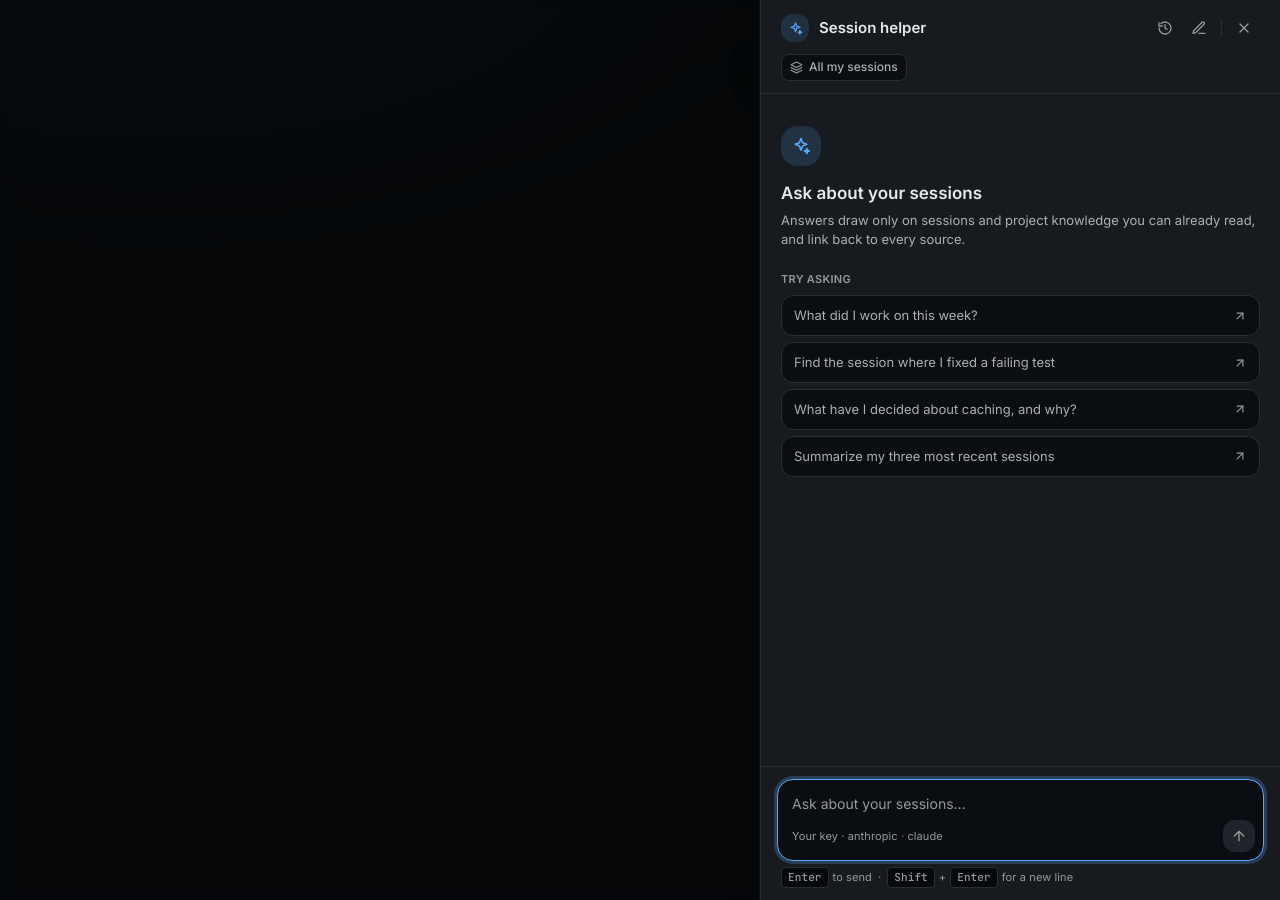
HelperPanel — streaming › streams an answer with tool steps, inline citation chips and a sources row
Type "What failed?" into the text box named "Ask the session helper" at (1020, 800), box [778,780,1263,820]
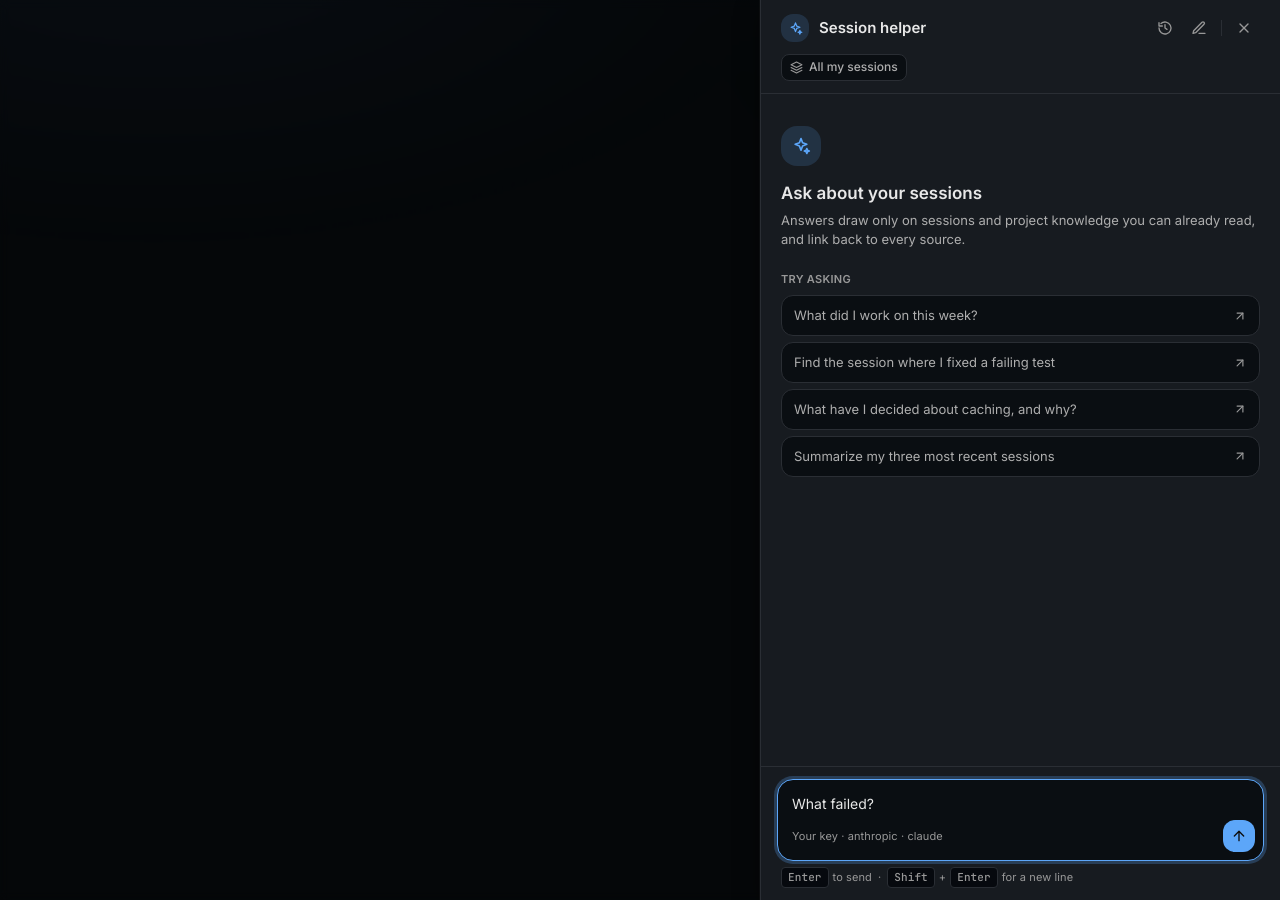
Press Enter
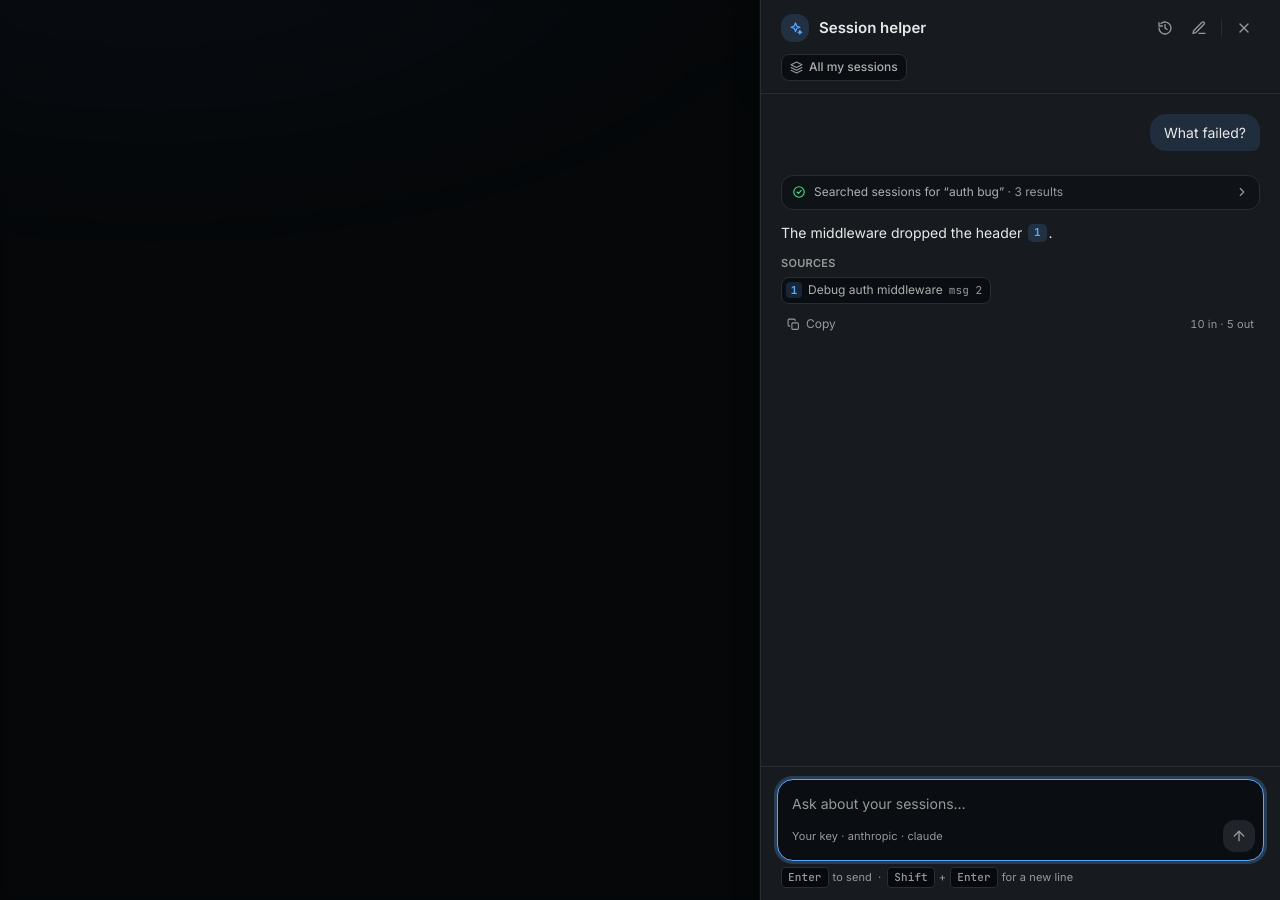
Expected: the text "The middleware dropped the header 1 ." is shown, [781,224,1053,242]
Expected: the button "Searched sessions for “auth bug” · 3 results" is shown, [782,176,1259,209]
Expected: the link named "Source 1: Debug auth middleware, message 2" reads "1", [1028,224,1046,242]
